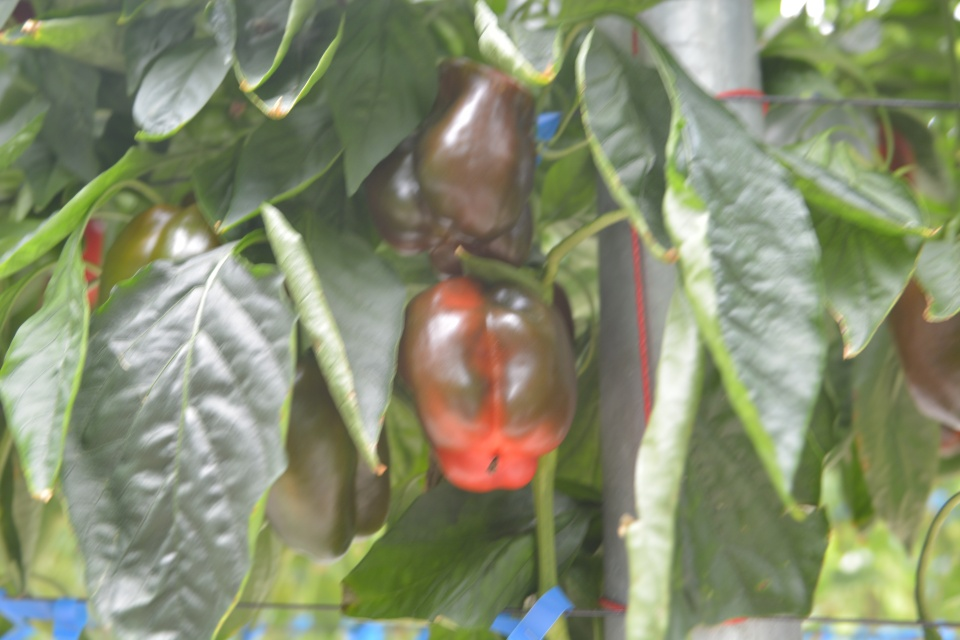fruit: (396, 273, 580, 495), (365, 55, 538, 276), (262, 344, 392, 562), (98, 202, 221, 312), (887, 276, 960, 454)
